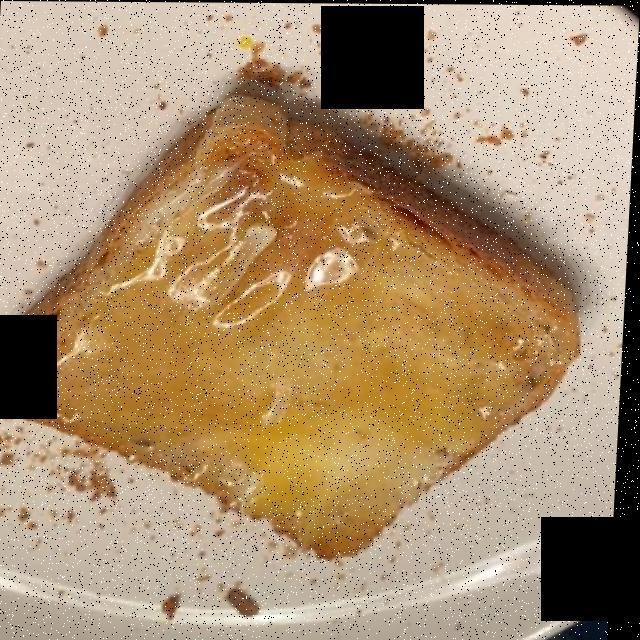bread: (10, 99, 572, 549)
honey: (28, 161, 550, 545)
